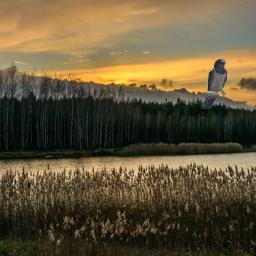Swallow: (201, 59, 227, 109)
